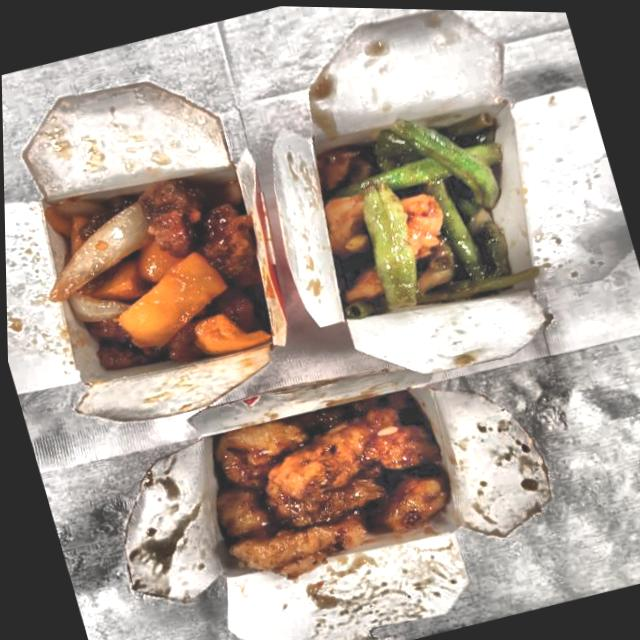Food: (294, 85, 550, 336), (35, 149, 294, 394), (186, 372, 464, 592)
